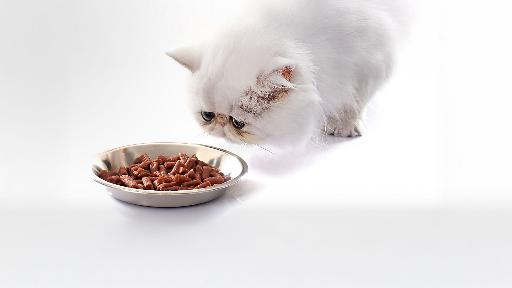cat_eating: (166, 0, 397, 148), (92, 142, 248, 207)
